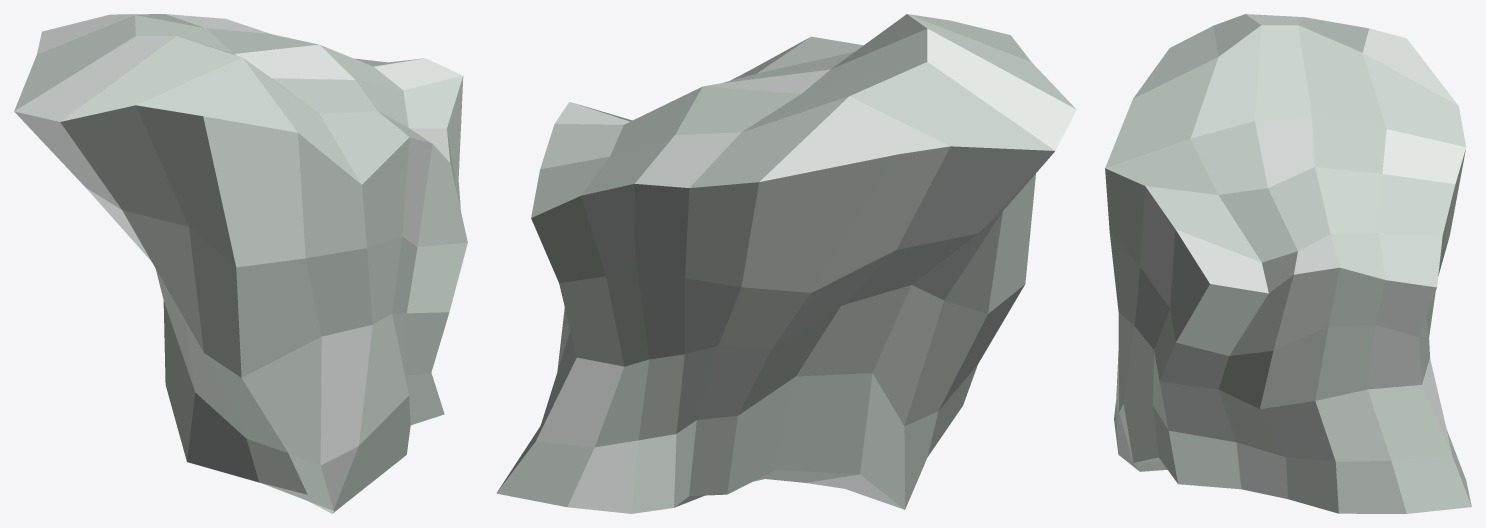
The model's file is Rock.glb.
The picture shows the model from 3 angles, left to right: view 1: azimuth 30°, elevation 25°; view 2: azimuth 150°, elevation 25°; view 3: azimuth 270°, elevation 25°; orthographic projection. The views are drawn at different scales.
Visible parts, largest first — view 1: Rock.001; view 2: Rock.001; view 3: Rock.001.
Part boxes in pixels (box(x1,y1,x2,y2)): Rock.001: box(14, 14, 467, 513); Rock.001: box(496, 14, 1076, 513); Rock.001: box(1105, 14, 1471, 513).
Size of the model in its own units: 10.69 by 10.37 by 8.46.
1 material, 1 textured.
